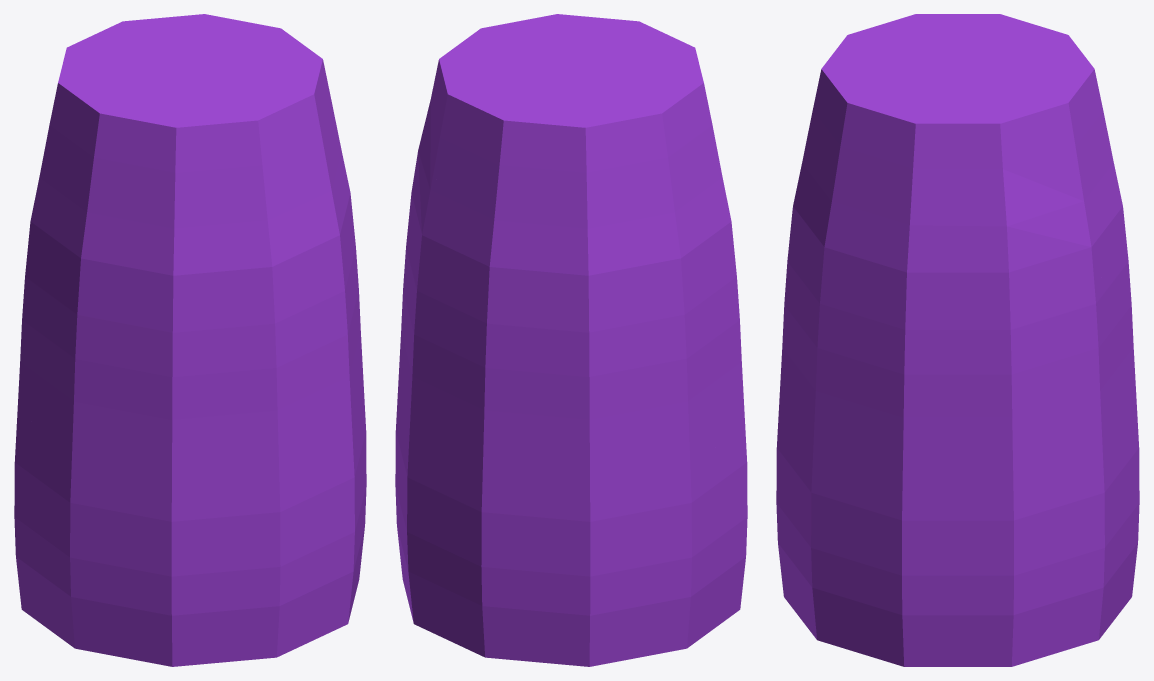
File: Glass_105_chunks.fbx
3 views of the same model, side by side, from view 1: azimuth 30°, elevation 25°; view 2: azimuth 150°, elevation 25°; view 3: azimuth 270°, elevation 25° (orthographic).
Visible parts, largest first — view 1: Glass_105_1, Glass_105_3, Glass_105_5, Glass_105_2, Glass_105_12, Glass_105_0, Glass_105_8, Glass_105_9, Glass_105_23, Glass_105_14, Glass_105_20, Glass_105_24 (+6 smaller); view 2: Glass_105_4, Glass_105_11, Glass_105_9, Glass_105_5, Glass_105_24, Glass_105_8, Glass_105_25, Glass_105_3, Glass_105_10, Glass_105_1, Glass_105_26, Glass_105_6 (+5 smaller); view 3: Glass_105_8, Glass_105_7, Glass_105_4, Glass_105_16, Glass_105_9, Glass_105_6, Glass_105_17, Glass_105_14, Glass_105_2, Glass_105_13, Glass_105_23, Glass_105_19 (+7 smaller).
Boxes of the visible parts, x1=… form: Glass_105_1: x1=31, y1=329, x2=328, y2=543; Glass_105_3: x1=39, y1=83, x2=204, y2=341; Glass_105_5: x1=14, y1=421, x2=245, y2=650; Glass_105_2: x1=193, y1=90, x2=326, y2=405; Glass_105_12: x1=87, y1=512, x2=300, y2=666; Glass_105_0: x1=122, y1=212, x2=276, y2=386; Glass_105_8: x1=173, y1=14, x2=350, y2=208; Glass_105_9: x1=58, y1=15, x2=193, y2=94; Glass_105_23: x1=172, y1=80, x2=337, y2=241; Glass_105_14: x1=285, y1=517, x2=365, y2=631; Glass_105_20: x1=301, y1=235, x2=348, y2=411; Glass_105_24: x1=27, y1=81, x2=104, y2=256; Glass_105_4: x1=395, y1=404, x2=649, y2=666; Glass_105_11: x1=454, y1=264, x2=664, y2=512; Glass_105_9: x1=419, y1=71, x2=663, y2=296; Glass_105_5: x1=581, y1=441, x2=747, y2=655; Glass_105_24: x1=617, y1=90, x2=700, y2=298; Glass_105_8: x1=409, y1=14, x2=599, y2=209; Glass_105_25: x1=591, y1=275, x2=694, y2=477; Glass_105_3: x1=606, y1=38, x2=738, y2=342; Glass_105_10: x1=411, y1=269, x2=466, y2=463; Glass_105_1: x1=703, y1=303, x2=747, y2=462; Glass_105_26: x1=675, y1=252, x2=703, y2=457; Glass_105_6: x1=406, y1=141, x2=445, y2=385; Glass_105_8: x1=838, y1=57, x2=1078, y2=290; Glass_105_7: x1=804, y1=268, x2=1065, y2=487; Glass_105_4: x1=968, y1=409, x2=1139, y2=666; Glass_105_16: x1=921, y1=405, x2=1104, y2=606; Glass_105_9: x1=942, y1=14, x2=1124, y2=281; Glass_105_6: x1=1010, y1=145, x2=1094, y2=428; Glass_105_17: x1=776, y1=441, x2=981, y2=620; Glass_105_14: x1=779, y1=459, x2=919, y2=639; Glass_105_2: x1=783, y1=47, x2=915, y2=393; Glass_105_13: x1=790, y1=595, x2=985, y2=666; Glass_105_23: x1=809, y1=55, x2=946, y2=240; Glass_105_19: x1=777, y1=409, x2=940, y2=513.
Size of the model in its own units: 527 by 888 by 554.
